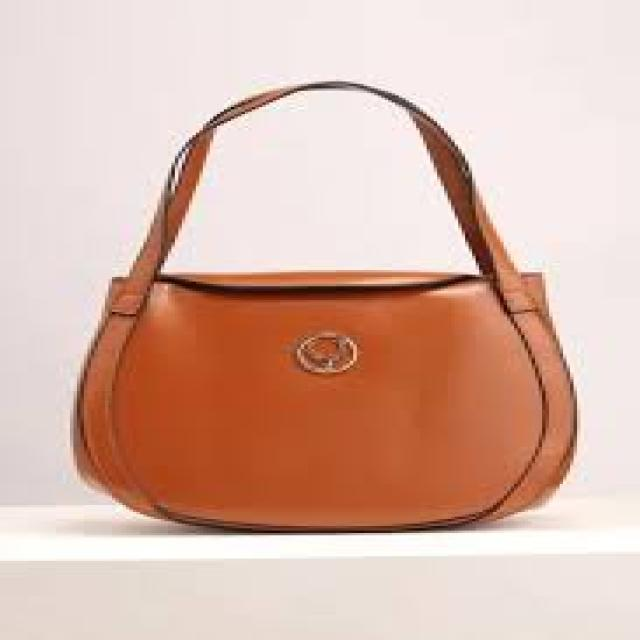handbag: (70, 79, 577, 531)
